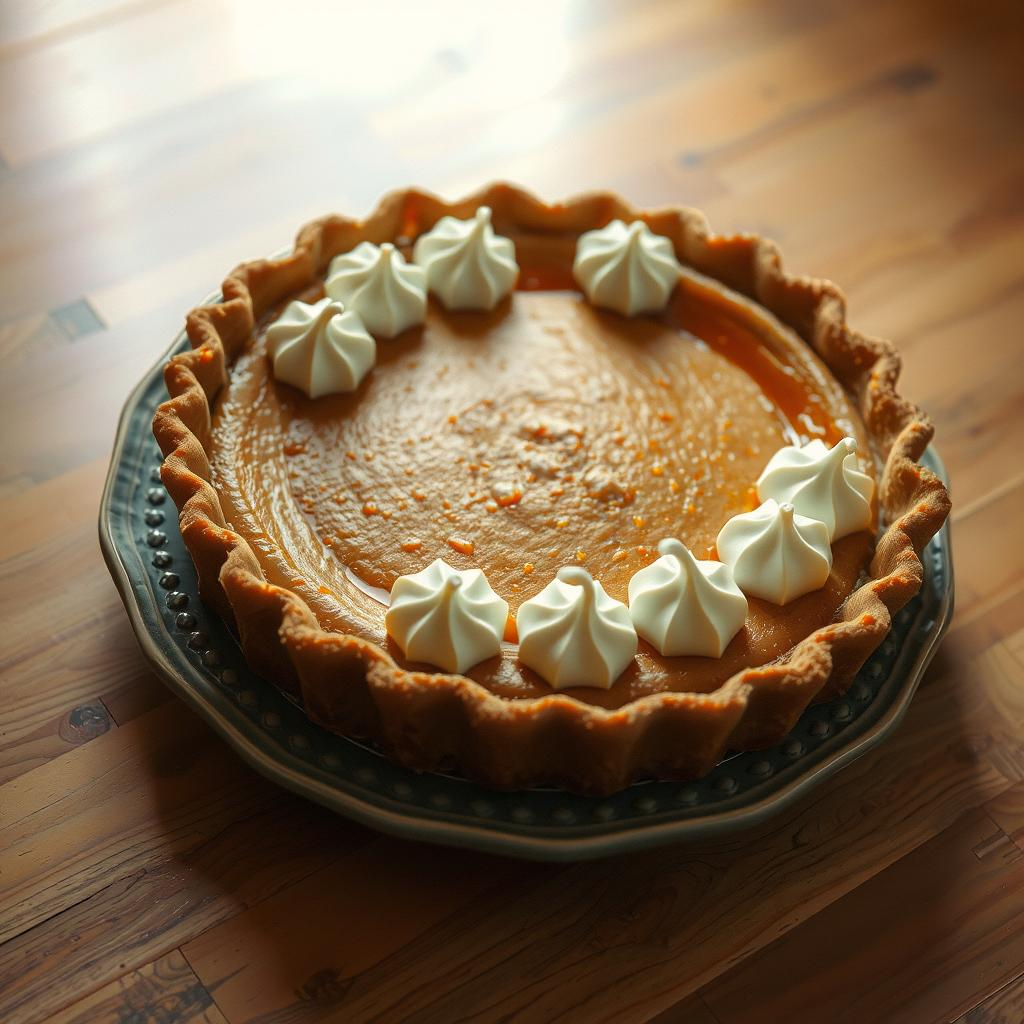pie: (146, 171, 964, 791)
